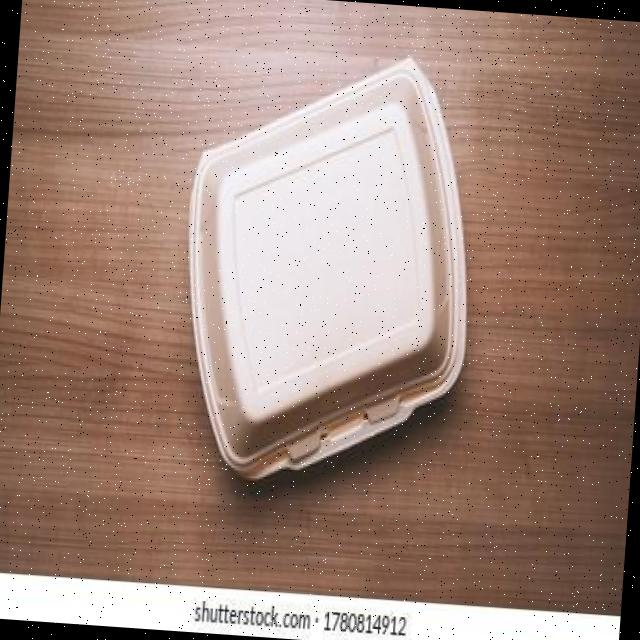styrofoam: (168, 39, 486, 495)
